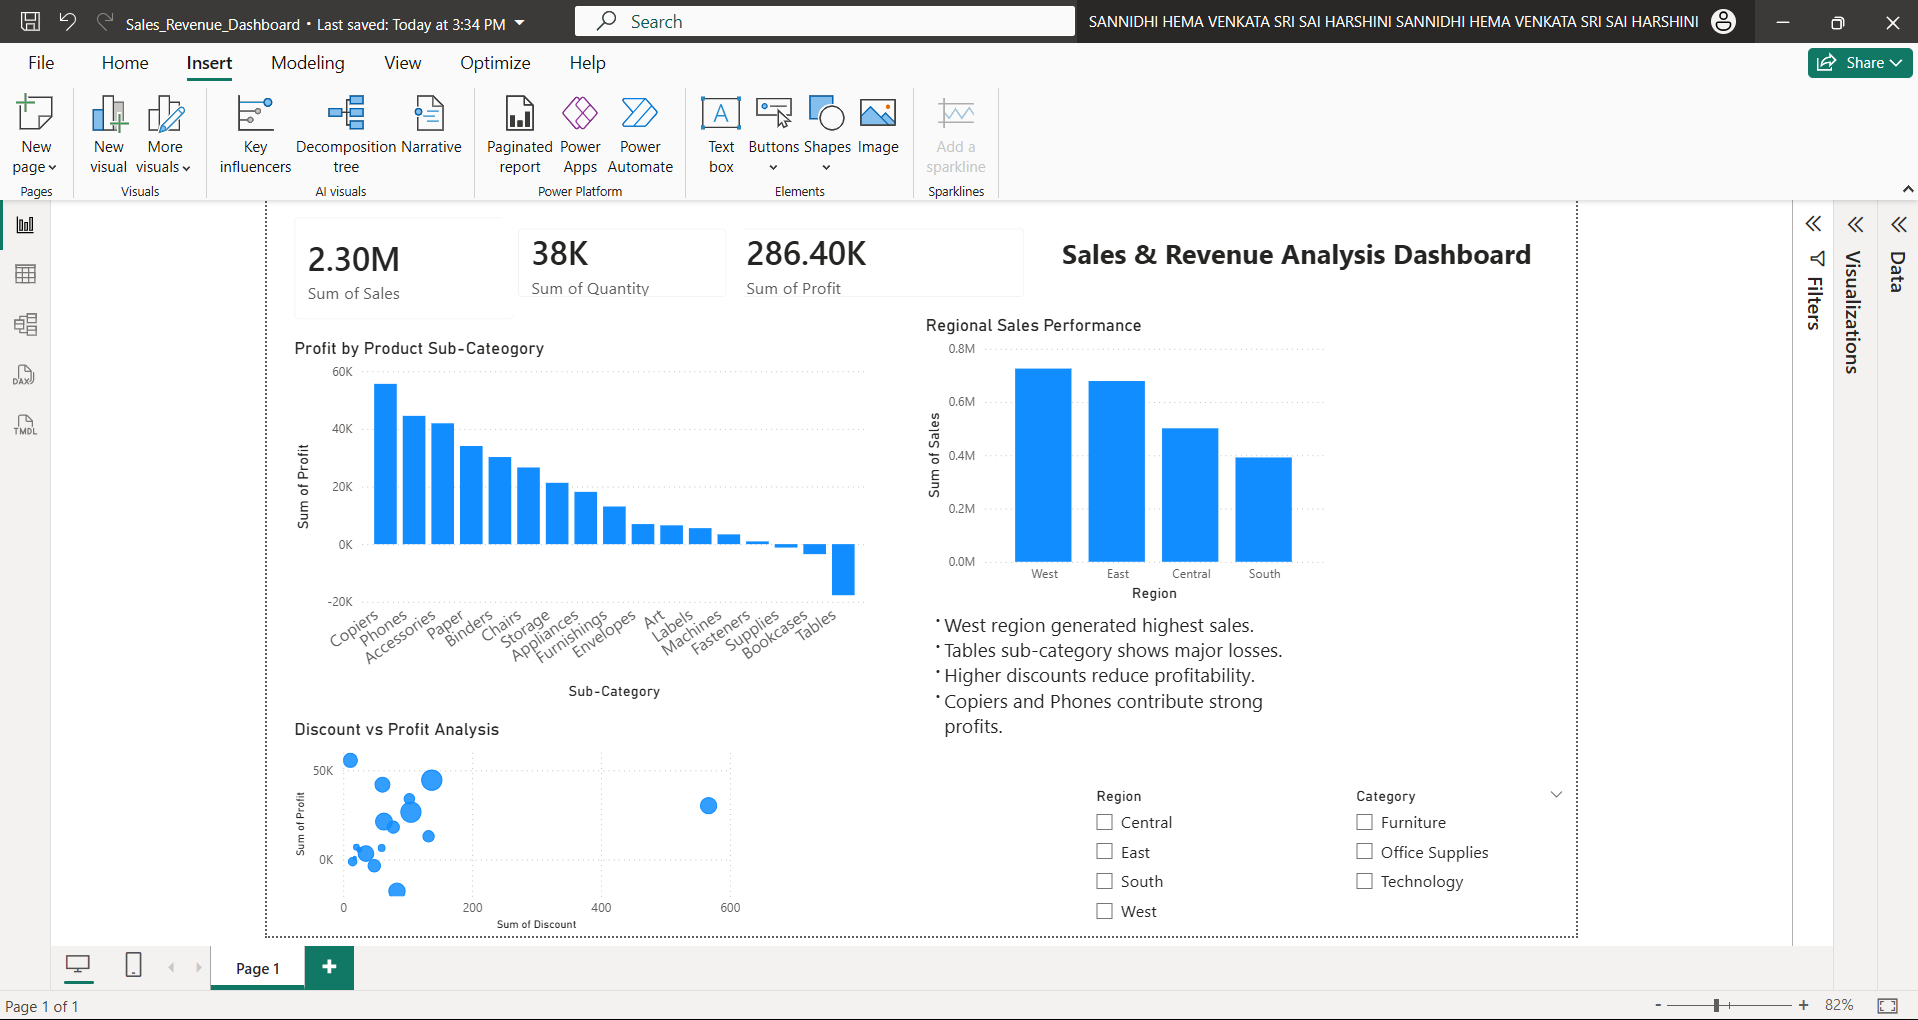

This screenshot's page, from the dashboard's own definition file:
{"tool":"powerbi","page":{"name":"Page 1","canvas":[1280,720],"ordinal":0},"visuals":[{"type":"cardVisual","fields":{"Data":["Sum(SampleSuperstore.Sales)","Sum(SampleSuperstore.Sales)"]},"box":[9.6,0,249.7,134.5],"z":0},{"type":"cardVisual","fields":{"Data":["Sum(SampleSuperstore.Profit)"]},"box":[439.1,11,319.7,101.5],"z":1000},{"type":"cardVisual","fields":{"Data":["Sum(SampleSuperstore.Quantity)"]},"box":[229.2,11,238.8,101.5],"z":2000},{"type":"clusteredColumnChart","title":"Profit by Product Sub-Cateogory","fields":{"Category":["SampleSuperstore.Sub-Category"],"Y":["Sum(SampleSuperstore.Profit)"]},"box":[22,134.5,569.5,359.5],"z":3000},{"type":"clusteredColumnChart","title":"Regional Sales Performance","fields":{"Category":["SampleSuperstore.Region"],"Y":["Sum(SampleSuperstore.Sales)"]},"box":[639.5,112.5,399.3,285.4],"z":4000},{"type":"slicer","fields":{"Values":["SampleSuperstore.Region"]},"box":[798.6,569.5,253.9,150.9],"z":6000},{"type":"slicer","fields":{"Values":["SampleSuperstore.Category"]},"box":[1052.5,569.5,227.8,148.2],"z":7000},{"type":"scatterChart","title":"Discount vs Profit Analysis","fields":{"X":["Sum(SampleSuperstore.Discount)"],"Y":["Sum(SampleSuperstore.Profit)"],"Category":["SampleSuperstore.Sub-Category"],"Size":["Sum(SampleSuperstore.Sales)"]},"box":[22,507.7,446,212.7],"z":7001},{"type":"textbox","box":[639,398,399,150],"z":7002},{"type":"textbox","box":[772.6,28.8,483,52.1],"z":7003}]}

Visuals, with their boxes on the page's 1280x720 design canvas (x1, y1, x2, y2). These are canvas units, not pixel positions in the 1918x1020 screenshot, which may show the page scaled, cropped or inside an application window:
cardVisual - Sum(SampleSuperstore.Sales) x Sum(SampleSuperstore.Sales): box(10, 0, 259, 134)
cardVisual - Sum(SampleSuperstore.Profit): box(439, 11, 759, 112)
cardVisual - Sum(SampleSuperstore.Quantity): box(229, 11, 468, 112)
"Profit by Product Sub-Cateogory" clusteredColumnChart: box(22, 134, 592, 494)
"Regional Sales Performance" clusteredColumnChart: box(640, 112, 1039, 398)
slicer - SampleSuperstore.Region: box(799, 570, 1052, 720)
slicer - SampleSuperstore.Category: box(1052, 570, 1280, 718)
"Discount vs Profit Analysis" scatterChart: box(22, 508, 468, 720)
textbox: box(639, 398, 1038, 548)
textbox: box(773, 29, 1256, 81)
